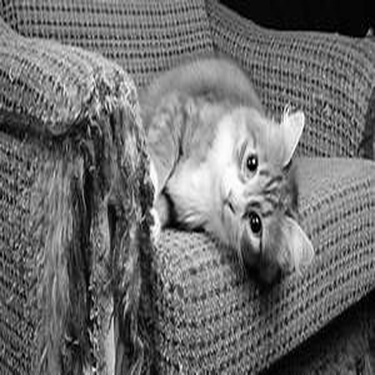cat: (140, 56, 318, 291)
